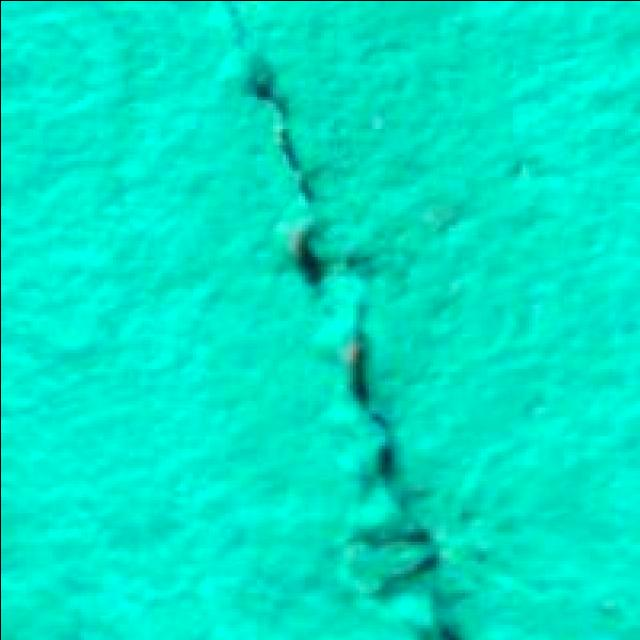SurfaceCrack: (200, 0, 486, 640)
